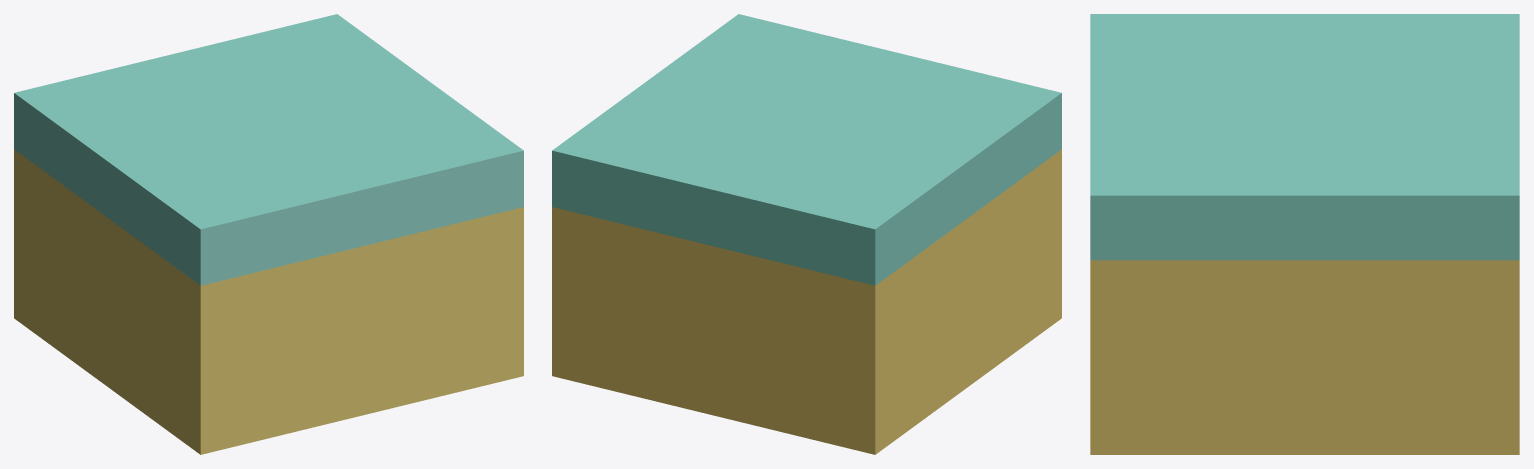
The model's file is squidgame_props_platform1_yellow.fbx.
The picture shows the model from 3 angles, left to right: view 1: azimuth 30°, elevation 25°; view 2: azimuth 150°, elevation 25°; view 3: azimuth 270°, elevation 25°; orthographic projection. The views are drawn at different scales.
Visible parts, largest first — view 1: squidgame_props_platform1_yellow; view 2: squidgame_props_platform1_yellow; view 3: squidgame_props_platform1_yellow.
Part boxes in pixels (x1=…): squidgame_props_platform1_yellow: x1=14, y1=14, x2=523, y2=454; squidgame_props_platform1_yellow: x1=552, y1=14, x2=1061, y2=454; squidgame_props_platform1_yellow: x1=1090, y1=14, x2=1519, y2=454.
Size of the model in its own units: 1.5 by 1 by 1.5.
